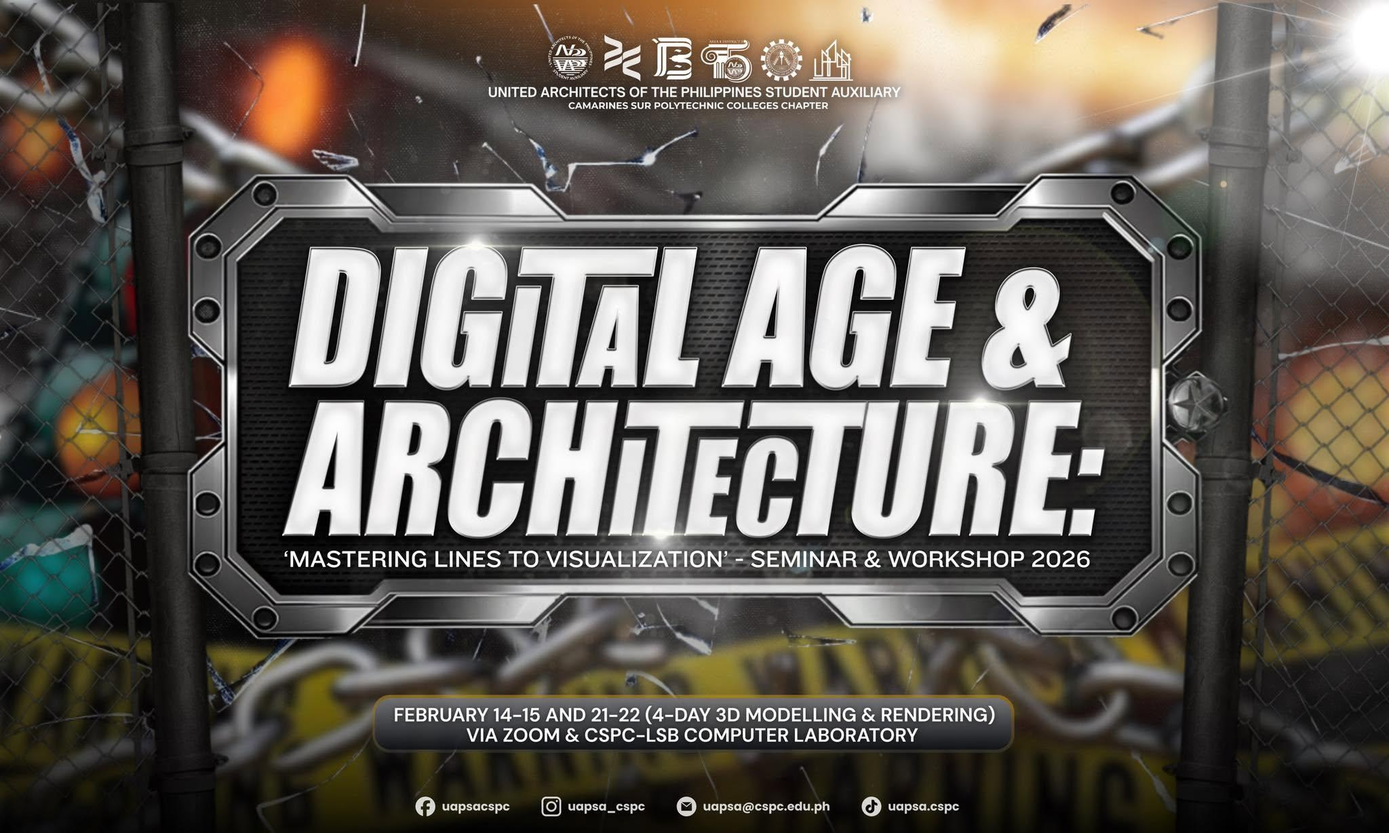embellishment: (183, 168, 1211, 646)
logo: (699, 32, 756, 83), (545, 30, 597, 82), (810, 30, 858, 83), (597, 30, 647, 80), (758, 32, 808, 82), (649, 31, 698, 81), (413, 792, 439, 822), (540, 792, 564, 821), (858, 794, 885, 819), (674, 794, 699, 820)
text: (273, 233, 1118, 578), (385, 700, 1002, 749), (483, 80, 910, 112), (702, 798, 834, 816), (885, 798, 965, 817), (564, 799, 652, 816), (438, 799, 512, 817)
underlay: (0, 0, 710, 832), (688, 0, 1388, 832)
